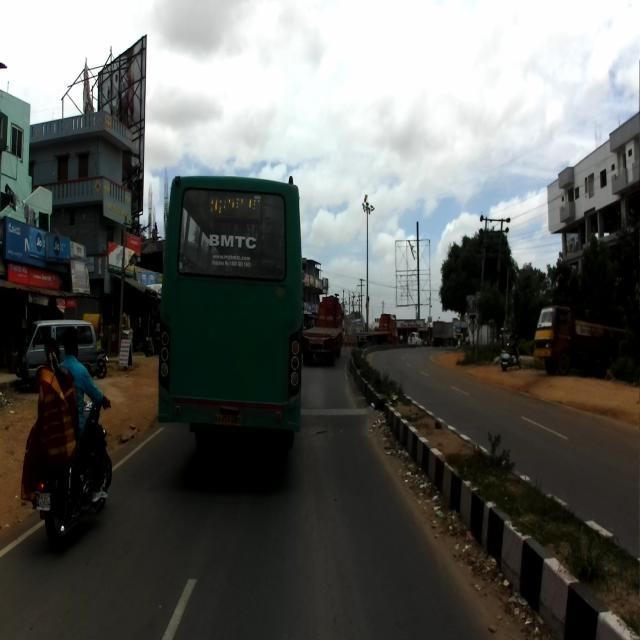Car_Maruti-Suzuki: (15, 317, 97, 394)
bus: (157, 170, 303, 461)
motorcycle_RoyalEnfield: (31, 399, 112, 556)
